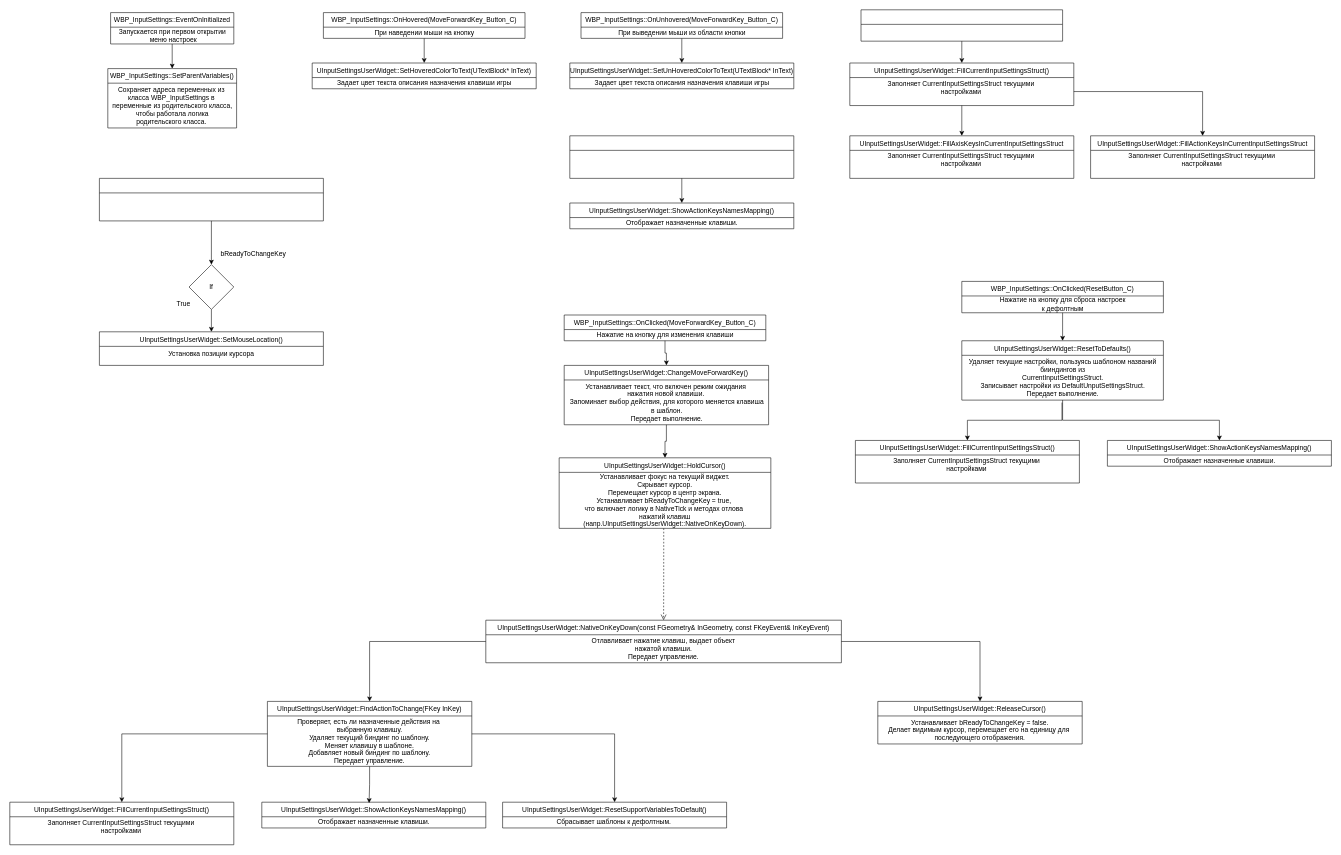
The diagram is 1341 pixels wide and 855 high, and some of its shapes have lost their labels. Here are the shapes that lost their labels. From the top down, the centre of each, then its label:
the point at 961,25: UInputSettingsUserWidget::NativeOnInitialized()
the point at 681,156: UInputSettingsUserWidget::NativeConstruct()
the point at 211,199: UInputSettingsUserWidget::NativeTick
